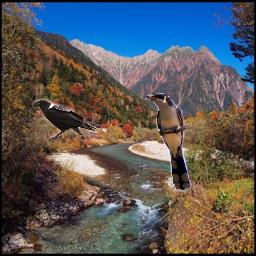Crow: (32, 98, 98, 144)
Cuckoo: (143, 93, 192, 192)
